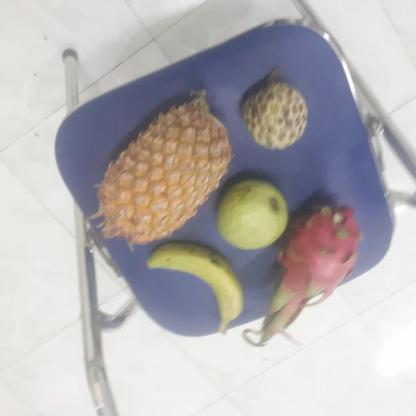annona: (234, 81, 307, 150)
banana: (145, 242, 242, 330)
guava: (213, 178, 289, 249)
pineapple: (88, 99, 230, 240)
pitaya: (263, 203, 359, 322)
